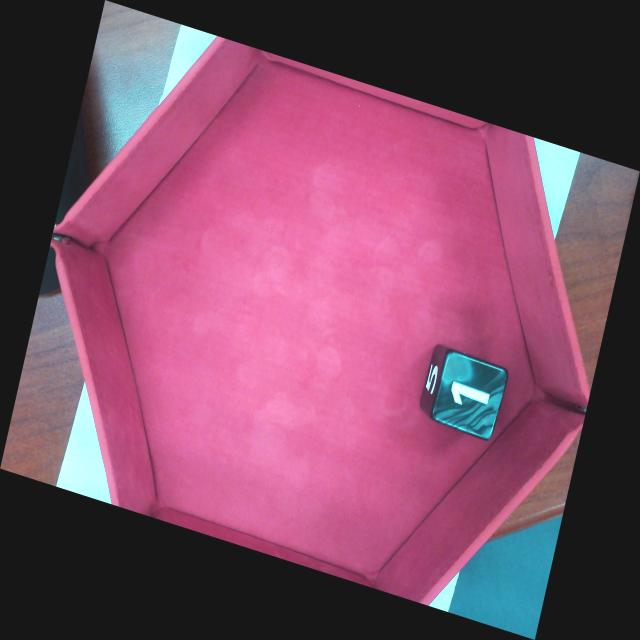dice: (433, 352, 507, 443)
